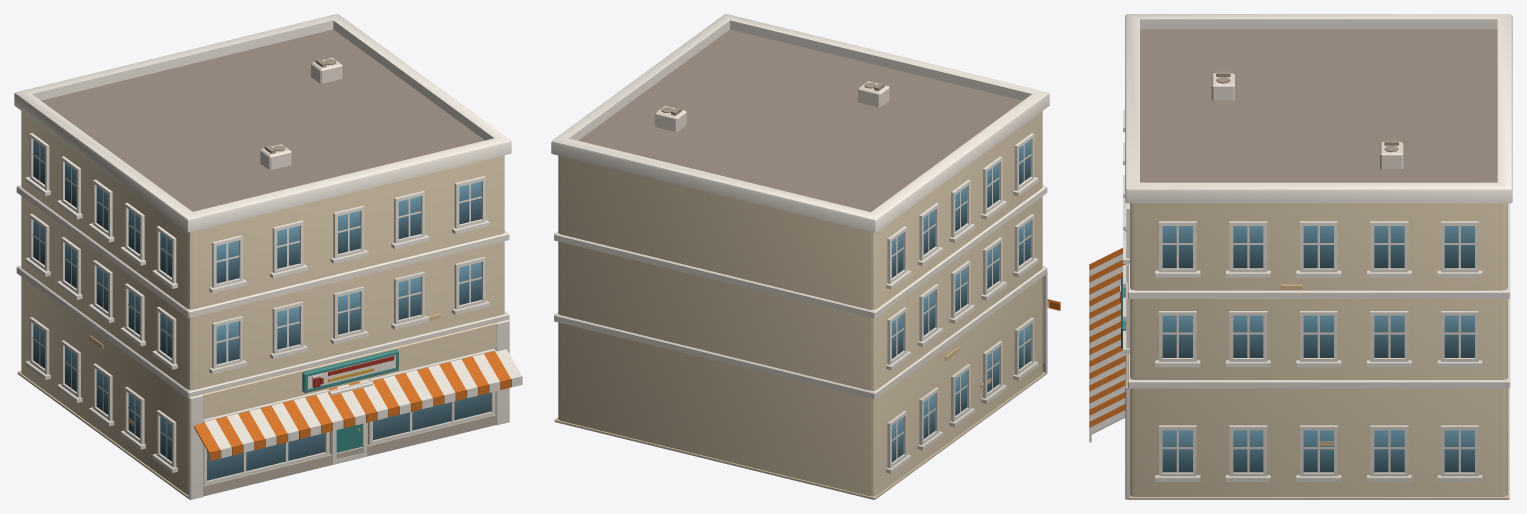
File: winter_s1.glb
3 renders of one model, left to right at view 1: azimuth 30°, elevation 25°; view 2: azimuth 150°, elevation 25°; view 3: azimuth 270°, elevation 25°, orthographic. The views are drawn at different scales.
Visible parts, largest first — view 1: winter_s1; view 2: winter_s1; view 3: winter_s1.
Boxes of the visible parts, x1,y1,x2,y2 form: winter_s1: (14,14,522,499); winter_s1: (551,14,1060,499); winter_s1: (1089,14,1512,499).
Size of the model in its own units: 14.48 by 12.19 by 14.55.
Materials: 1 (1 with a texture image).
